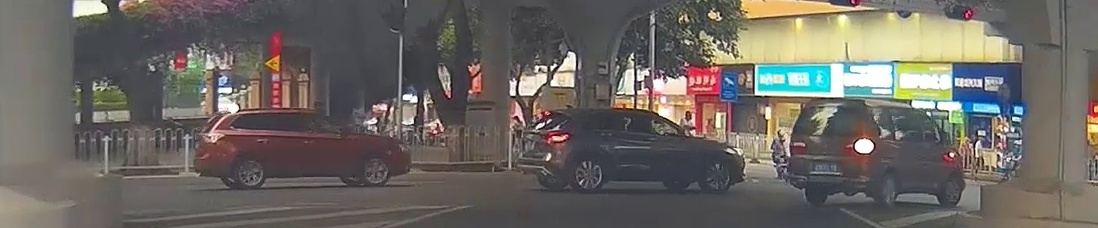L_light: (789, 141, 808, 154)
R_light: (844, 141, 874, 152)
T_light: (819, 103, 841, 106)
day-right: (789, 97, 877, 205)
